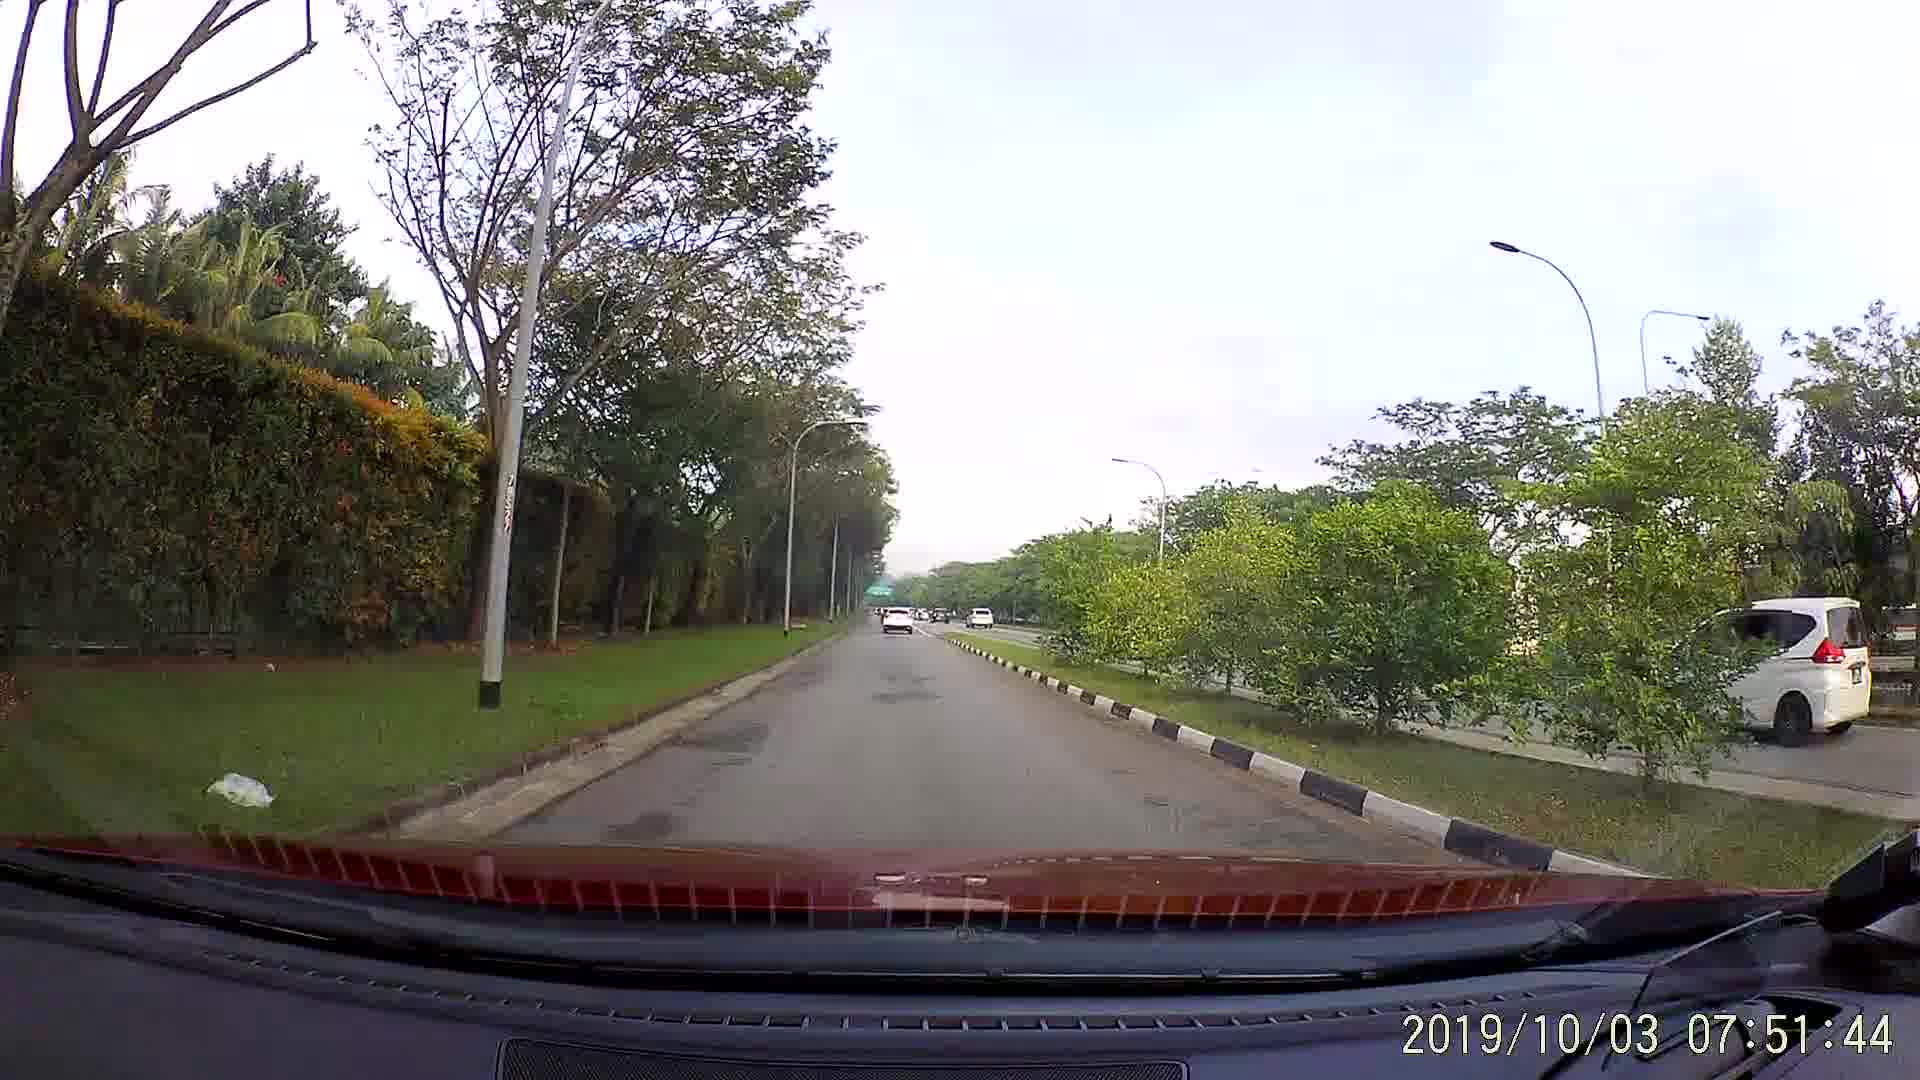car: (1734, 591, 1867, 753), (880, 601, 915, 636), (963, 605, 994, 626)
